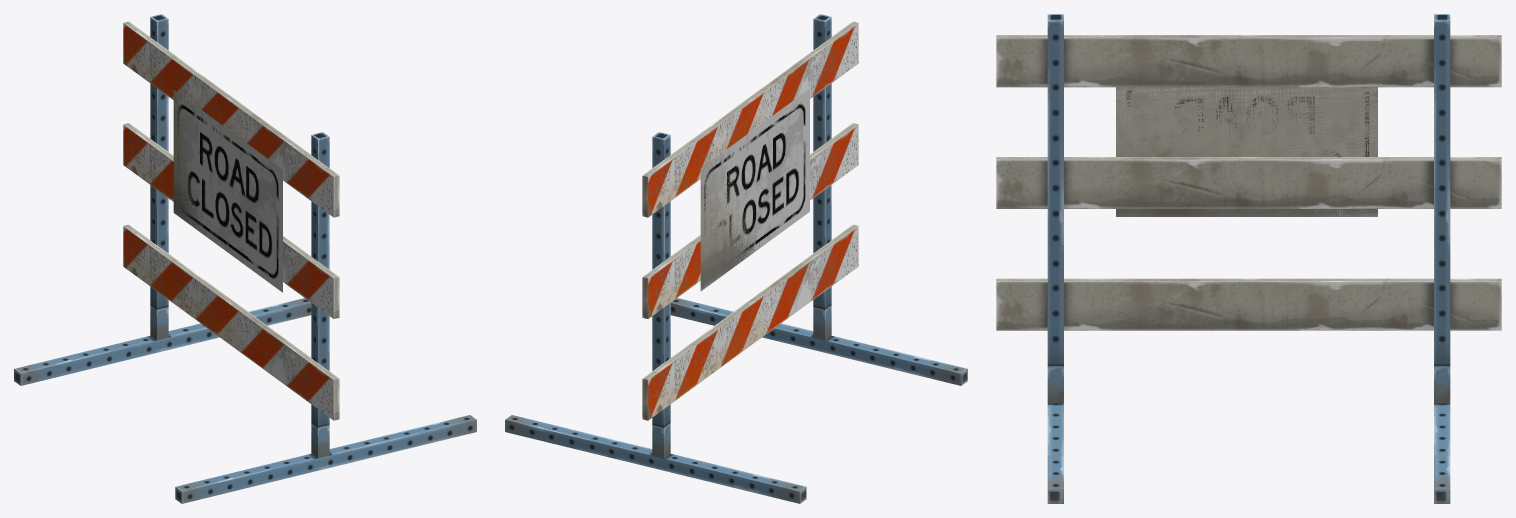
Rendered from trafficBarricade04.fbx.
3 renders of one model, left to right at view 1: azimuth 30°, elevation 25°; view 2: azimuth 150°, elevation 25°; view 3: azimuth 270°, elevation 25°, orthographic. The views are drawn at different scales.
Parts seen in each view (by area): view 1: trafficBarricade04; view 2: trafficBarricade04; view 3: trafficBarricade04.
Part boxes in pixels (x1,y1,x2,y2): trafficBarricade04: [14, 14, 476, 503]; trafficBarricade04: [505, 14, 967, 503]; trafficBarricade04: [996, 14, 1501, 503].
Size of the model in its own units: 152 by 163 by 188.
